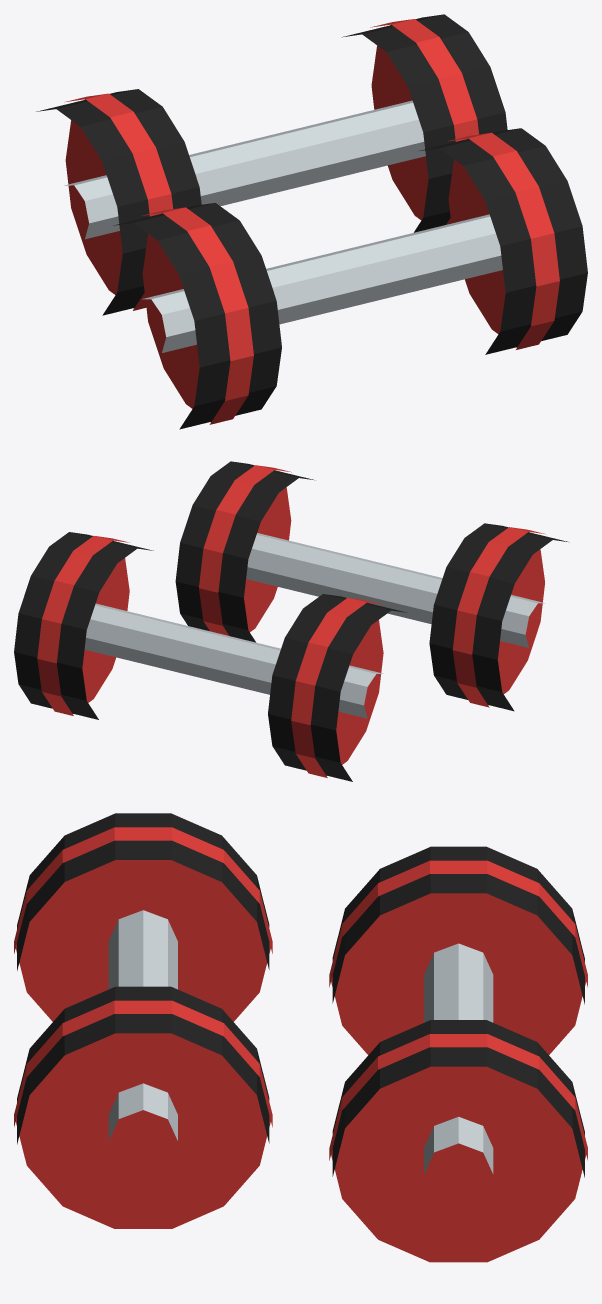
The model's file is hantel.glb.
The picture shows the model from 3 angles, top to bottom: view 1: azimuth 30°, elevation 25°; view 2: azimuth 150°, elevation 25°; view 3: azimuth 270°, elevation 25°; orthographic projection. The views are drawn at different scales.
Visible parts, largest first — view 1: hantel; view 2: hantel; view 3: hantel.
Part boxes in pixels (x1,y1,x2,y2): hantel: (36,14,587,429); hantel: (14,461,569,781); hantel: (14,813,587,1262).
Bounding box in the file's own units: 0.38 × 0.1599 × 0.364.
